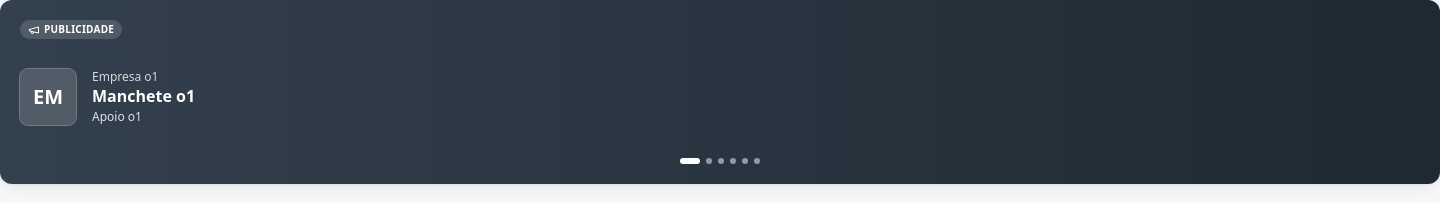
Test: SponsorAdBanner › os indicadores trocam a divulgação exibida
The image size is (1440, 203).
Step 1. Click the button named "Ir para divulgação 3" → (721, 161), box [718,158,724,164]
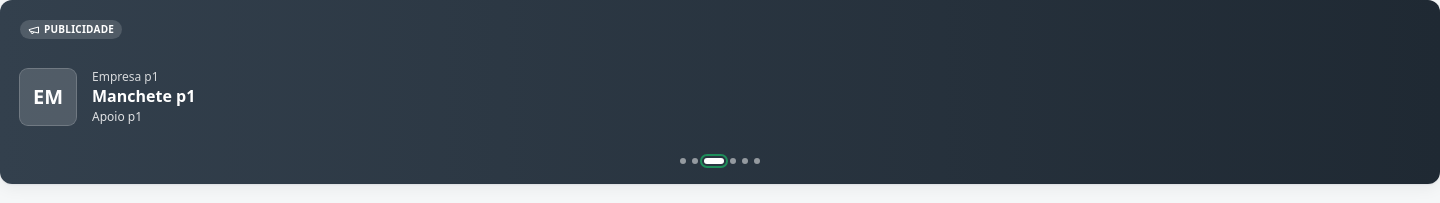
expect the text "Manchete p1" is shown: met, box [92,84,195,106]
